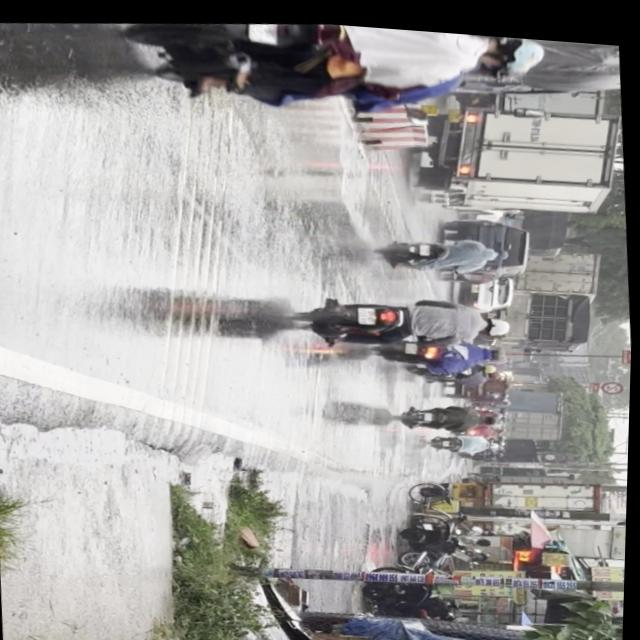helmet: (471, 27, 548, 71), (483, 306, 515, 327)
licenseplate: (111, 7, 552, 132), (295, 273, 518, 353)
nohelmet: (249, 17, 280, 39), (361, 299, 380, 317)
